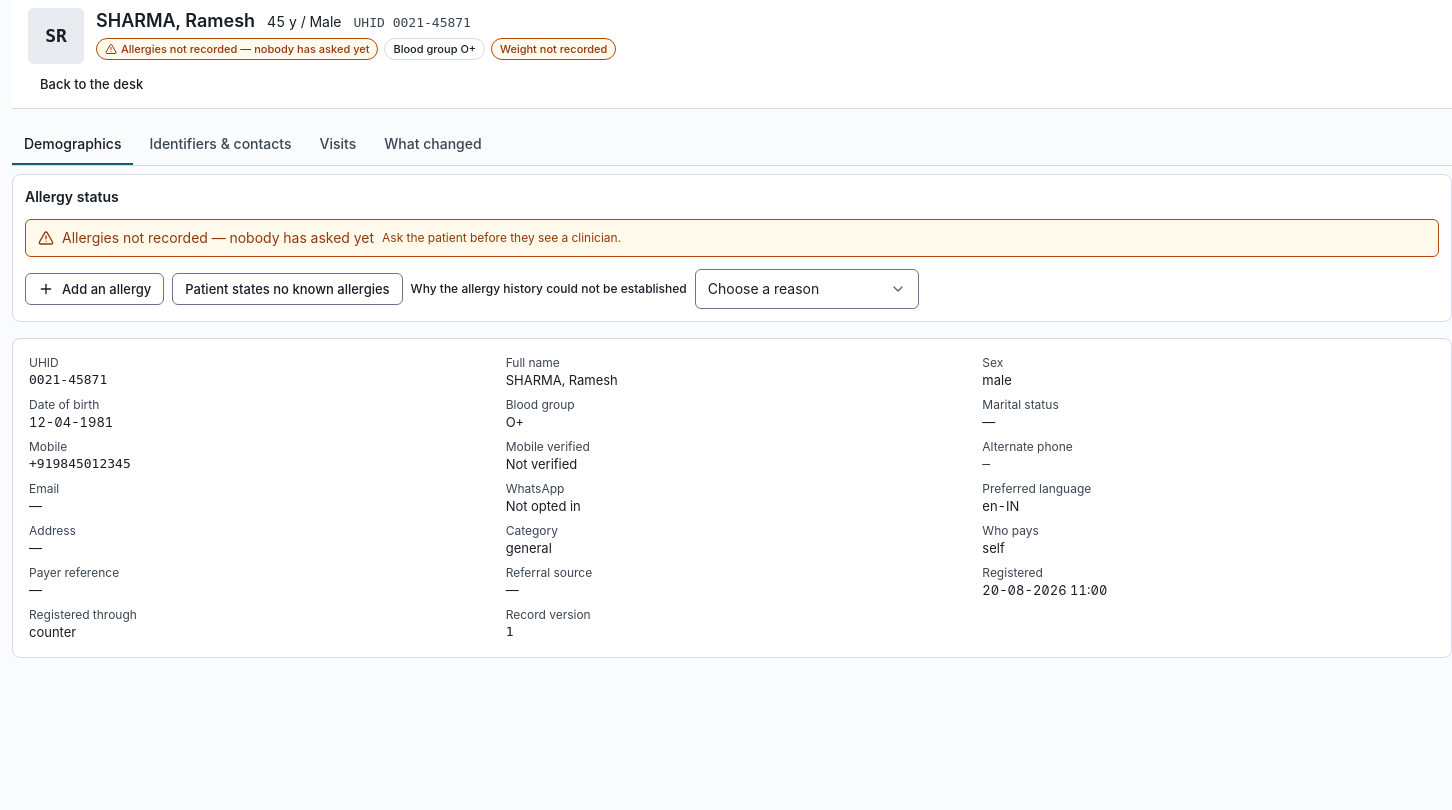
Test: the visit history › explains its absence rather than showing an empty list to somebody who cannot read it
Step 1. Press the mouse on the tab "Visits" → [338, 145], box [308, 125, 368, 165]
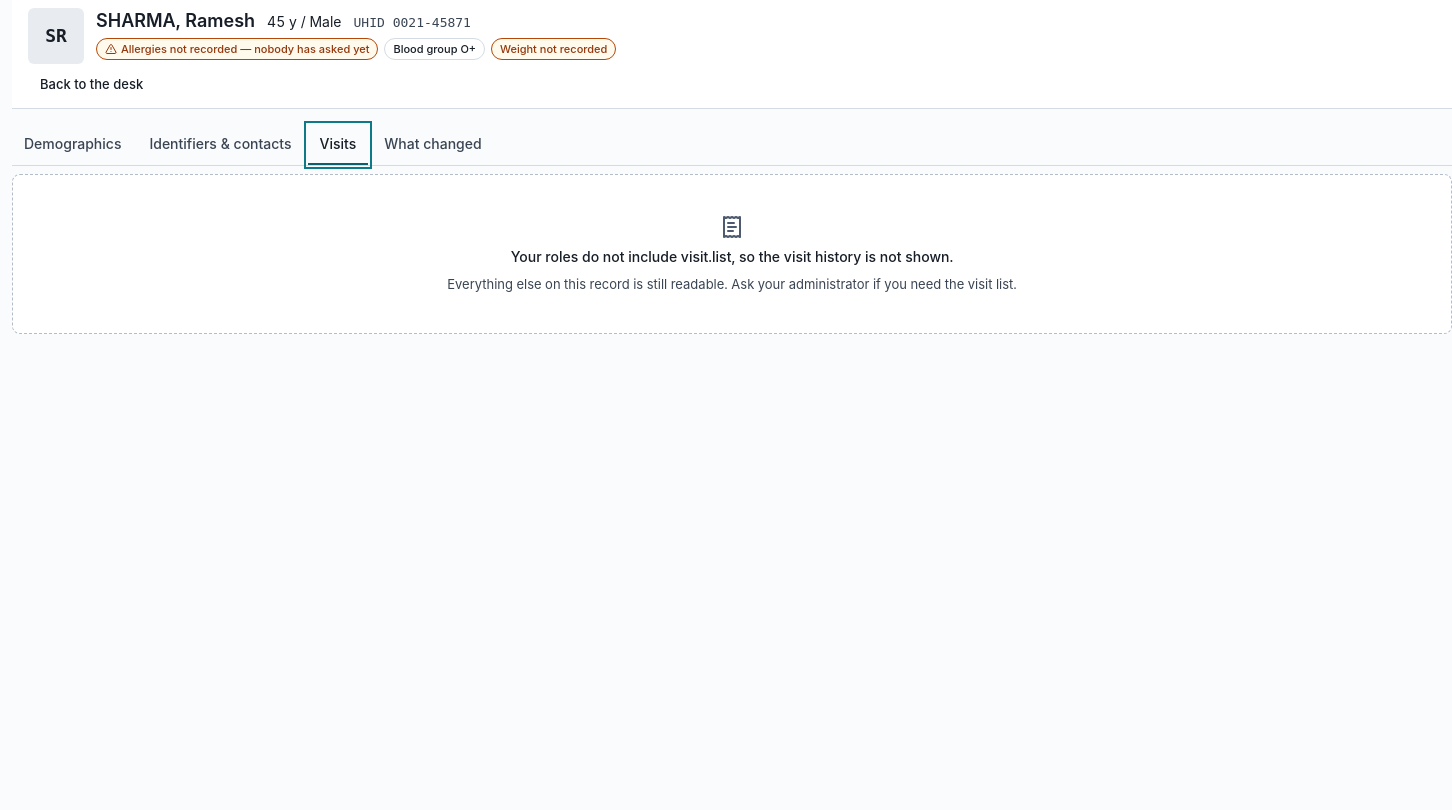
Expected: the text "visit.list" is shown, [511, 248, 953, 265]
